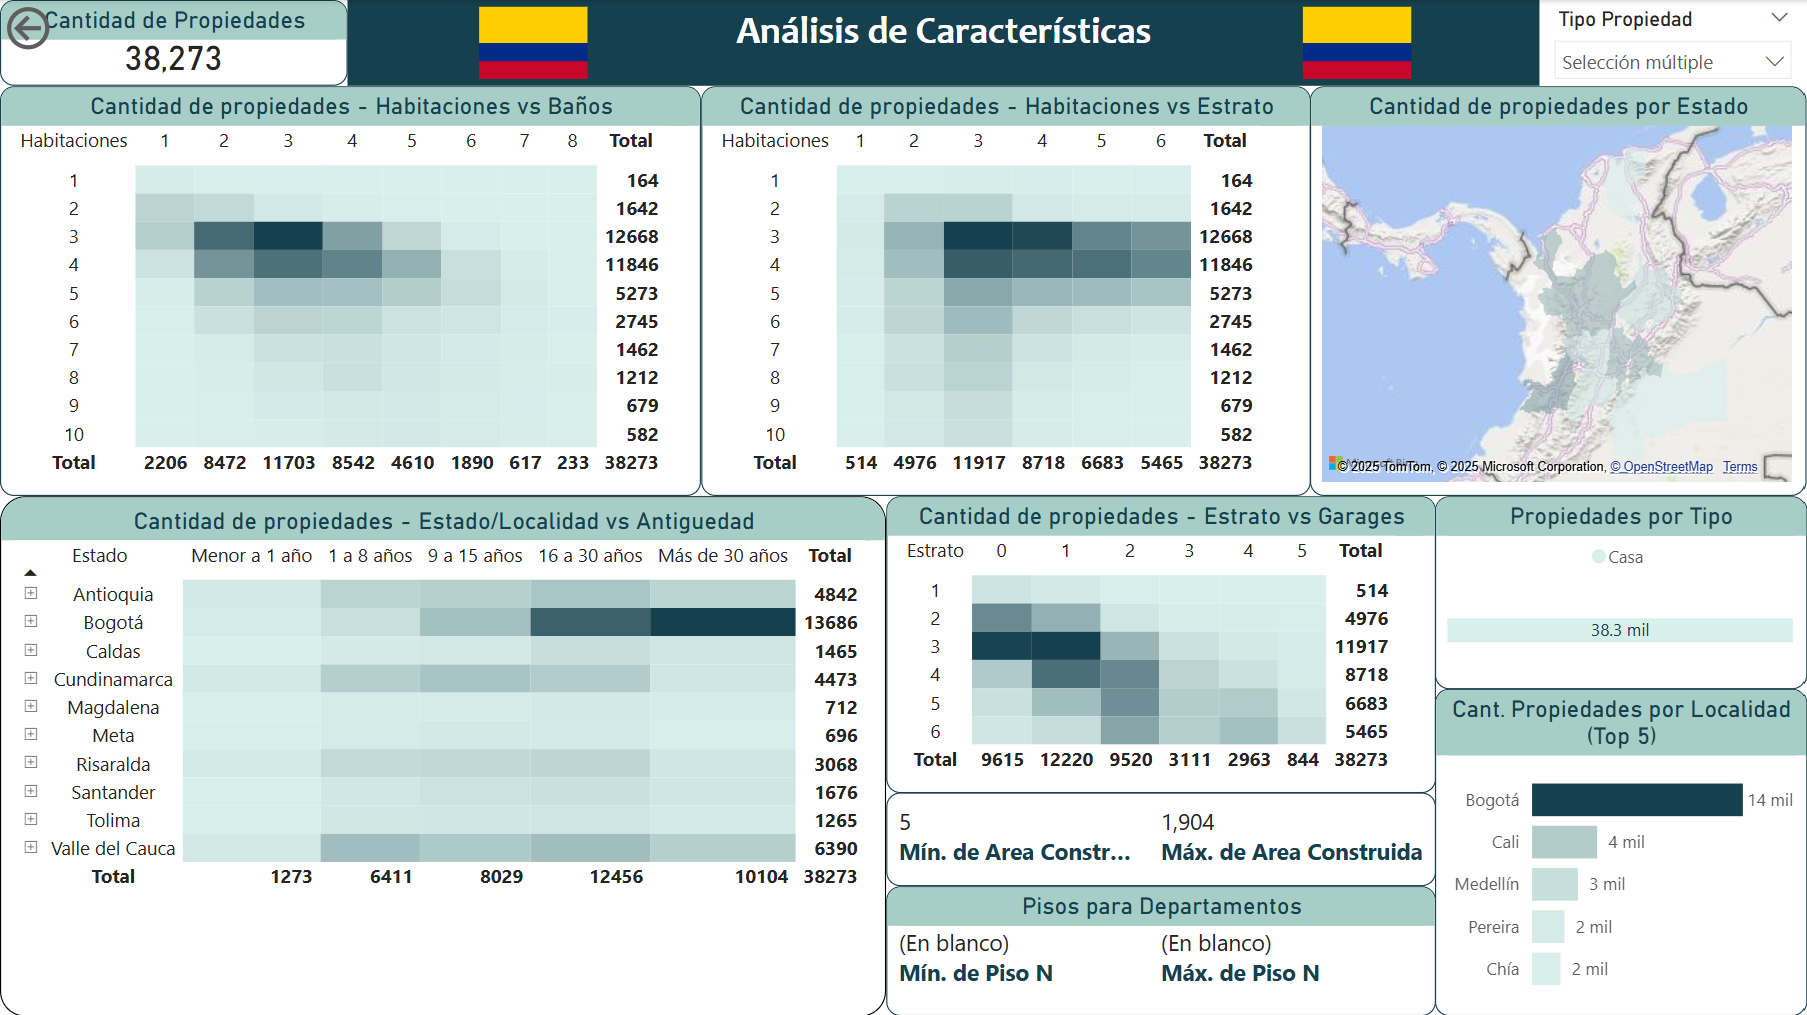

Layout of this report page (visuals, bound fields, positions):
{"tool":"powerbi","page":{"name":"Análisis de Características","canvas":[1280,720],"ordinal":0},"visuals":[{"type":"pivotTable","title":"Cantidad de propiedades - Habitaciones vs Baños","fields":{"Columns":["Props.Banos"],"Values":["CountNonNull(Props.Tipo Propiedad)"],"Rows":["Props.Habitaciones"]},"box":[0,61.1,497,290.6],"z":0},{"type":"pivotTable","title":"Cantidad de propiedades - Estrato vs Garages","fields":{"Columns":["Props.Garages"],"Values":["CountNonNull(Props.Tipo Propiedad)"],"Rows":["Props.Estrato"]},"box":[628.2,351.5,389.2,210.2],"z":1000},{"type":"slicer","fields":{"Values":["Props.Tipo Propiedad"]},"box":[1091.5,0,188.7,61.1],"z":2000},{"type":"pivotTable","title":"Cantidad de propiedades - Estado/Localidad vs Antiguedad","fields":{"Values":["CountNonNull(Props.Tipo Propiedad)"],"Rows":["Props.Estado","Props.Localidad"],"Columns":["Antiguedad Exp.Antiguedad"]},"box":[0,351.5,628.2,368.7],"z":3000},{"type":"card","title":"Cantidad de Propiedades","fields":{"Values":["CountNonNull(Props.Tipo Propiedad)"]},"box":[0,0,246.3,61.1],"z":4000},{"type":"textbox","box":[246.3,0,845.2,61.1],"z":5000},{"type":"pivotTable","title":"Cantidad de propiedades - Habitaciones vs Estrato","fields":{"Values":["CountNonNull(Props.Tipo Propiedad)"],"Rows":["Props.Habitaciones"],"Columns":["Props.Estrato"]},"box":[496.8,60.8,431.9,290.7],"z":6000},{"type":"image","box":[892.6,0,138,60.8],"z":7000},{"type":"image","box":[308.8,0,137.1,60.8],"z":8000},{"type":"filledMap","title":"Cantidad de propiedades por Estado","fields":{"Category":["Props.Estado"]},"box":[928.7,60.8,351.5,290.7],"z":9000},{"type":"actionButton","box":[0,0,100,40],"z":10000},{"type":"hundredPercentStackedBarChart","title":"Propiedades por Tipo","fields":{"Y":["CountNonNull(Props.Tipo Propiedad)"],"Series":["Props.Tipo Propiedad"]},"box":[1017.1,351.7,263.1,136.4],"z":11000},{"type":"multiRowCard","title":"Propiedades por Tipo","fields":{"Values":["Min(Props.Area Construida)","Max(Props.Area Construida)1"]},"box":[628.2,561.7,389.2,66.5],"z":12000},{"type":"multiRowCard","title":"Pisos para Departamentos","fields":{"Values":["Min(Props.Piso N)","Max(Props.Piso N)1"]},"box":[628.2,628.2,389.2,92],"z":13000},{"type":"barChart","title":"Cant. Propiedades por Localidad (Top 5)","fields":{"Y":["CountNonNull(Props.Tipo Propiedad)"],"Category":["Props.Localidad"]},"box":[1017.1,488.2,263.1,232.1],"z":14000}]}

Visuals, with their boxes in screenshot pixels (x1, y1, x2, y2), scaled from the page's 1280x720 canvas onto the 1807x1015 screenshot:
"Cantidad de propiedades - Habitaciones vs Baños" pivotTable: left=0, top=86, right=702, bottom=496
"Cantidad de propiedades - Estrato vs Garages" pivotTable: left=887, top=496, right=1436, bottom=792
slicer - Props.Tipo Propiedad: left=1541, top=0, right=1806, bottom=86
"Cantidad de propiedades - Estado/Localidad vs Antiguedad" pivotTable: left=0, top=496, right=887, bottom=1014
"Cantidad de Propiedades" card: left=0, top=0, right=348, bottom=86
textbox: left=348, top=0, right=1541, bottom=86
"Cantidad de propiedades - Habitaciones vs Estrato" pivotTable: left=701, top=86, right=1311, bottom=496
image: left=1260, top=0, right=1455, bottom=86
image: left=436, top=0, right=629, bottom=86
"Cantidad de propiedades por Estado" filledMap: left=1311, top=86, right=1806, bottom=496
actionButton: left=0, top=0, right=141, bottom=56
"Propiedades por Tipo" hundredPercentStackedBarChart: left=1436, top=496, right=1806, bottom=688
"Propiedades por Tipo" multiRowCard: left=887, top=792, right=1436, bottom=886
"Pisos para Departamentos" multiRowCard: left=887, top=886, right=1436, bottom=1014
"Cant. Propiedades por Localidad (Top 5)" barChart: left=1436, top=688, right=1806, bottom=1014
